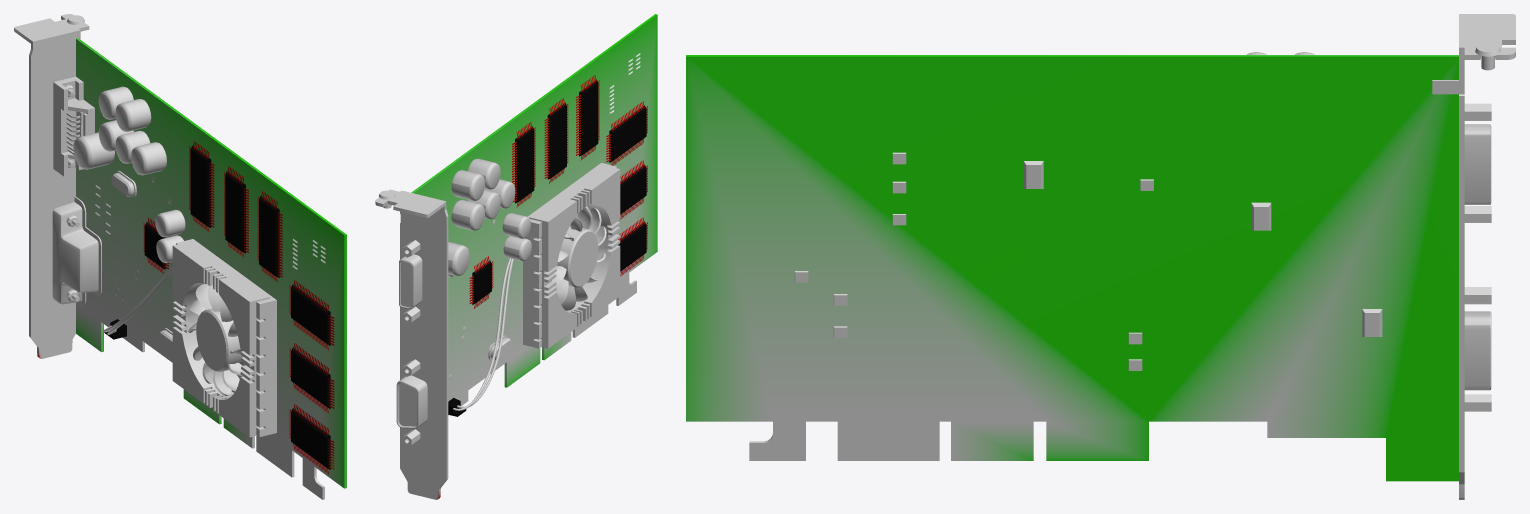
Rendered from vga_agp_b.fbx.
The picture shows the model from 3 angles, left to right: view 1: azimuth 30°, elevation 25°; view 2: azimuth 150°, elevation 25°; view 3: azimuth 270°, elevation 25°; orthographic projection. The views are drawn at different scales.
Parts seen in each view (by area): view 1: vga_agp_b, vga_agp_b_fan; view 2: vga_agp_b, vga_agp_b_fan; view 3: vga_agp_b.
Boxes of the visible parts, left/top/right/bottom form: vga_agp_b: left=14, top=14, right=346, bottom=499; vga_agp_b_fan: left=187, top=284, right=243, bottom=395; vga_agp_b: left=375, top=14, right=657, bottom=499; vga_agp_b_fan: left=552, top=206, right=606, bottom=310; vga_agp_b: left=686, top=14, right=1515, bottom=499.
Bounding box in the file's own units: 2.11 × 10.3 × 16.7.
